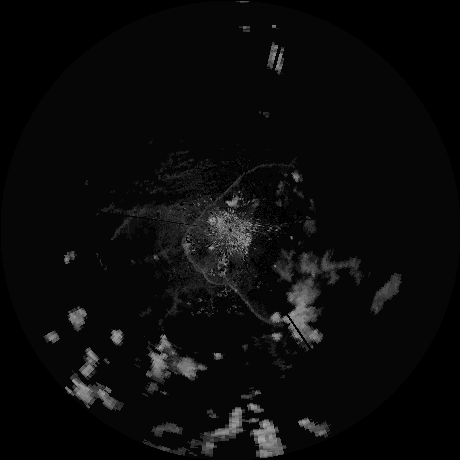frontgust: (189, 162, 300, 231), (182, 237, 268, 321)
